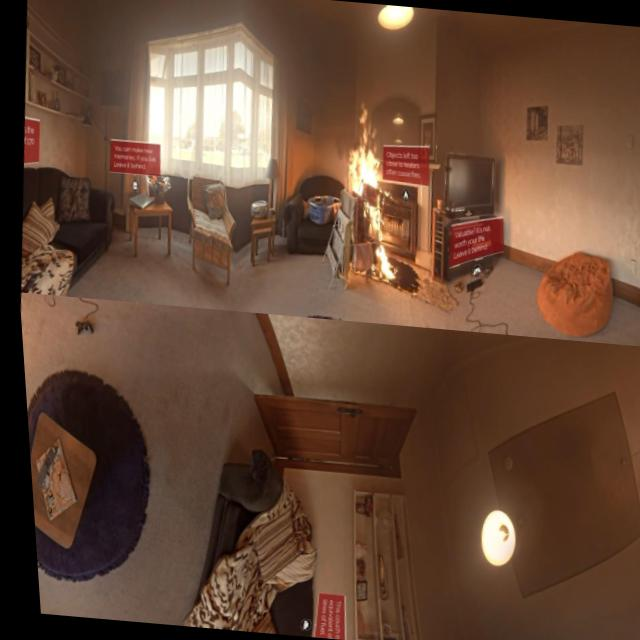fire: (326, 104, 405, 286)
